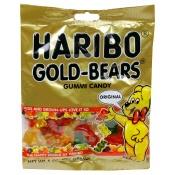grozi_66: (19, 4, 155, 170)
